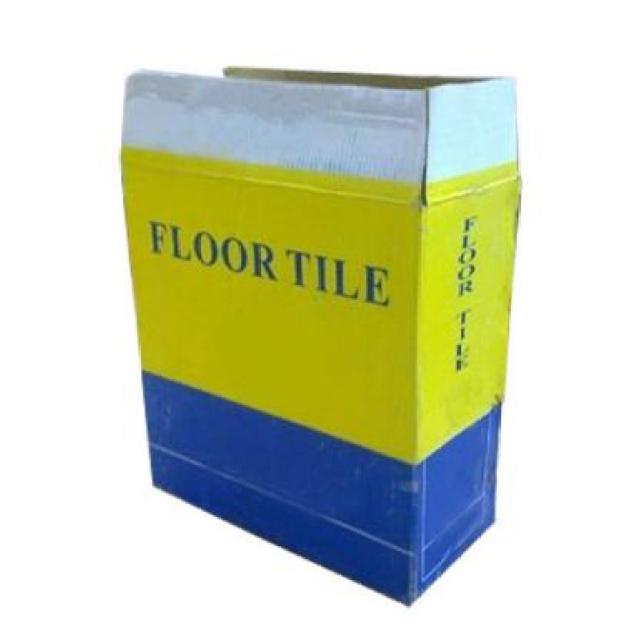box: (94, 31, 558, 612)
